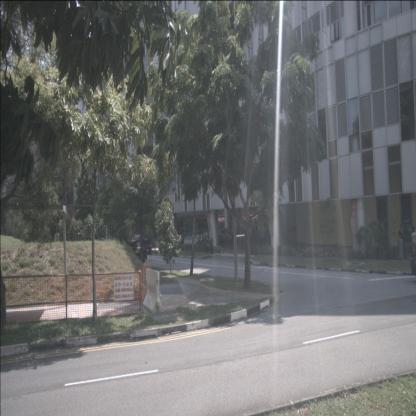barrier: (142, 268, 165, 314)
